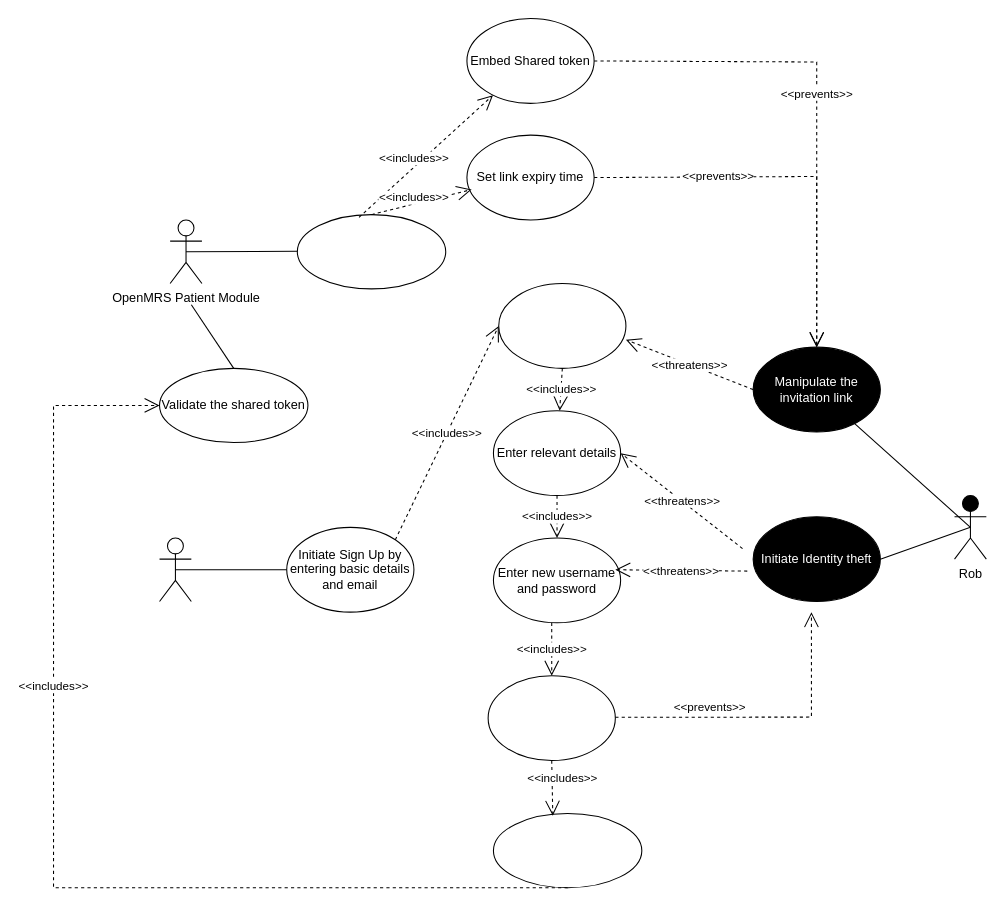
Some shapes in this 1005 by 921 pixel diagram are drawn without their labels. The centre of each missing label's shape, as x and y in pixels:
Click Login: point (567, 850)
MFA using phone: point (551, 718)
Patient: point (174, 569)
Receive Invite Link: point (562, 325)
Send Invite Link: point (371, 251)
